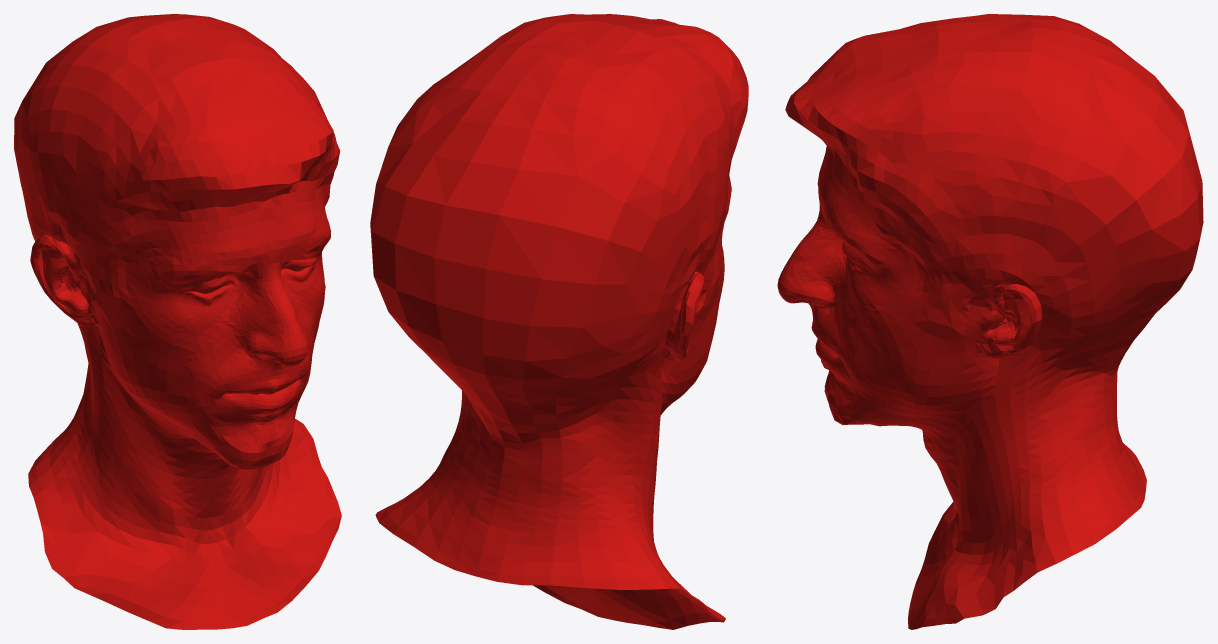
Rendered from face_template.obj.
3 views of the same model, side by side, from view 1: azimuth 30°, elevation 25°; view 2: azimuth 150°, elevation 25°; view 3: azimuth 270°, elevation 25° (orthographic). The views are drawn at different scales.
Parts seen in each view (by area): view 1: l=oldface_template; view 2: l=oldface_template; view 3: l=oldface_template.
Part boxes in pixels (x1=…): l=oldface_template: x1=14, y1=14, x2=341, y2=629; l=oldface_template: x1=370, y1=14, x2=748, y2=629; l=oldface_template: x1=777, y1=14, x2=1203, y2=629.
Bounding box in the file's own units: 189 × 358 × 241.
